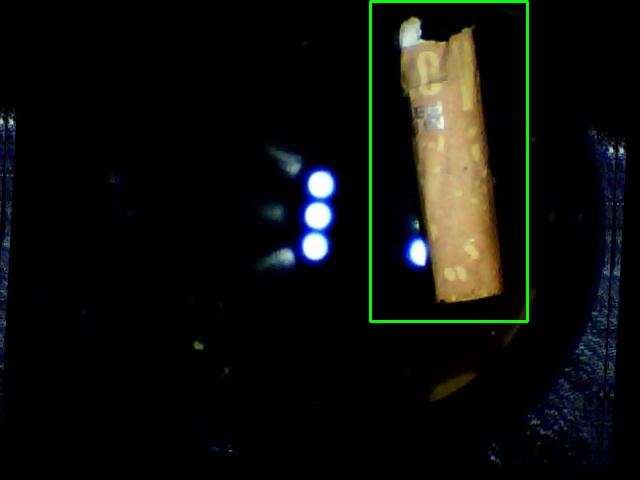megot: (370, 1, 527, 321)
